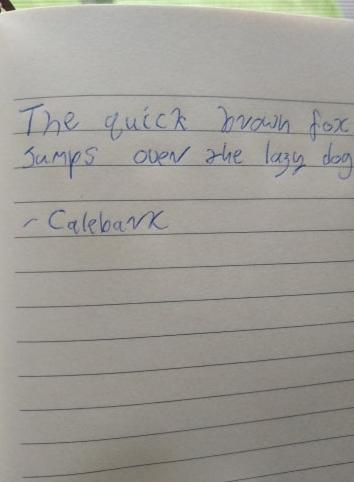text: (16, 99, 352, 145), (18, 137, 354, 183), (19, 204, 172, 238)
